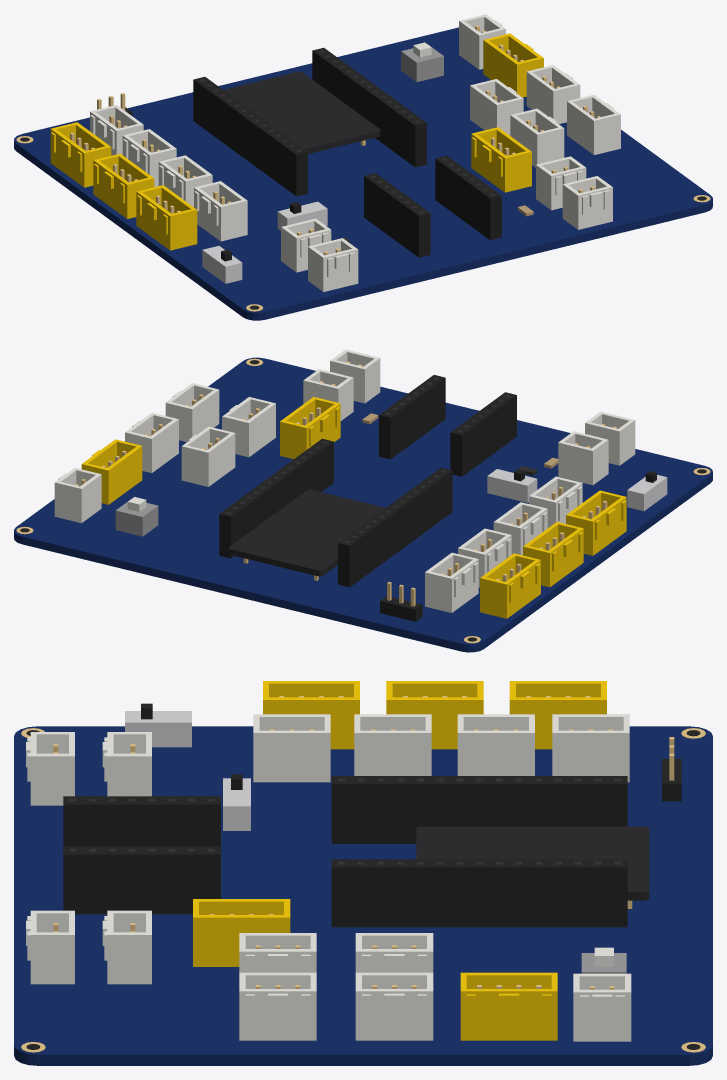
The picture shows the model from 3 angles, top to bottom: view 1: azimuth 30°, elevation 25°; view 2: azimuth 150°, elevation 25°; view 3: azimuth 270°, elevation 25°; orthographic projection. The views are drawn at different scales.
Parts seen in each view (by area): view 1: base_pcb, base_power_module, base_u2, base_u1, base_tb6612_socket_r, base_tb6612_socket_l, base_i2c, base_rx2tx2, base, base_d34, base_rxtx, base_ultrasonic (+16 smaller); view 2: base_pcb, base_power_module, base_u2, base_u1, base_tb6612_socket_r, base_tb6612_socket_l, base, base_ultrasonic, base_d36, base_rx2tx2, base_d23, base_i2c (+17 smaller); view 3: base_pcb, base_u1, base_u2, base_tb6612_socket_r, base_power_module, base_tb6612_socket_l, base_rgy, base_d35, base_d33, base_d34, base_rx2tx2, base_d23 (+17 smaller).
Boxes of the visible parts, x1,y1,x2,y2 form: base_pcb: (14,27,712,320); base_power_module: (223,71,380,153); base_u2: (193,77,307,196); base_u1: (312,47,426,167); base_tb6612_socket_r: (435,156,501,240); base_tb6612_socket_l: (364,173,430,257); base_i2c: (136,185,197,250); base_rx2tx2: (471,127,531,192); base: (16,25,710,311); base_d34: (567,94,620,154); base_rxtx: (93,153,154,218); base_ultrasonic: (50,122,111,187); base_pcb: (14,357,712,652); base_power_module: (228,489,385,576); base_u2: (338,467,452,587); base_u1: (219,438,333,558); base_tb6612_socket_r: (379,375,445,459); base_tb6612_socket_l: (450,392,516,476); base: (16,358,710,643); base_ultrasonic: (480,553,540,618); base_d36: (181,426,235,486); base_rx2tx2: (280,397,340,459); base_d23: (425,552,478,612); base_i2c: (566,490,626,555); base_pcb: (14,726,712,1065); base_u1: (331,859,627,927); base_u2: (331,776,627,843); base_tb6612_socket_r: (63,846,220,914); base_power_module: (416,826,649,900); base_tb6612_socket_l: (63,796,220,846); base_rgy: (460,972,557,1040); base_d35: (355,972,433,1040); base_d33: (253,714,330,782); base_d34: (239,972,316,1040); base_rx2tx2: (193,899,290,966); base_d23: (552,714,629,782).
Size of the model in its own units: 0.1 by 0.0101 by 0.09.
